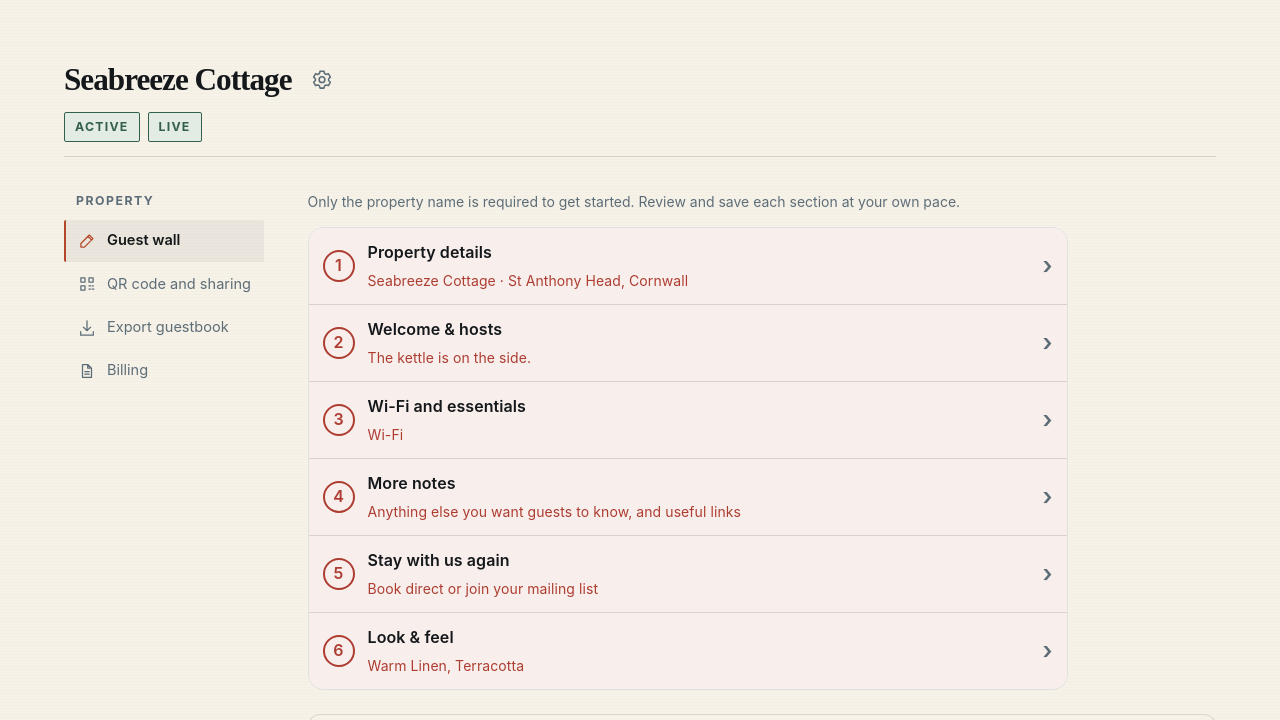
Test: switching the phone editor between Edit and Preview › opens Manage on the checklist and returns there after section editing or guest preview
The image size is (1280, 720).
Check: the button "Welcome photo" is not shown
Check: the button "5 Stay with us again Book direct or join your mailing list ›" is shown, box [308,535,1066,612]
Click the button "2 Welcome & hosts The kettle is on the side. ›": (339, 343) [308,304,1066,381]
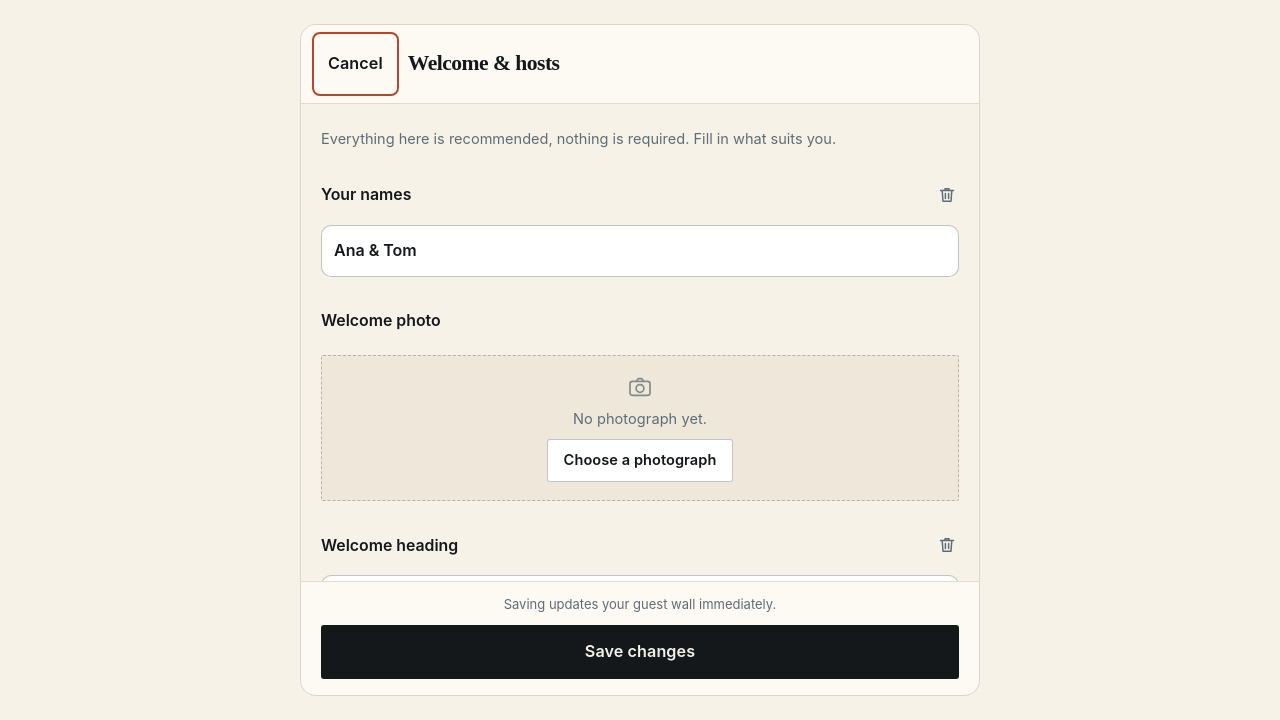
Check: the dialog "Welcome & hosts" is shown, box [300,24,980,696]
Check: the file field labelled "Welcome photo" is shown, box [321,311,441,330]
Click the button "Cancel": (355, 64) [317,37,394,91]
(page scrolled)
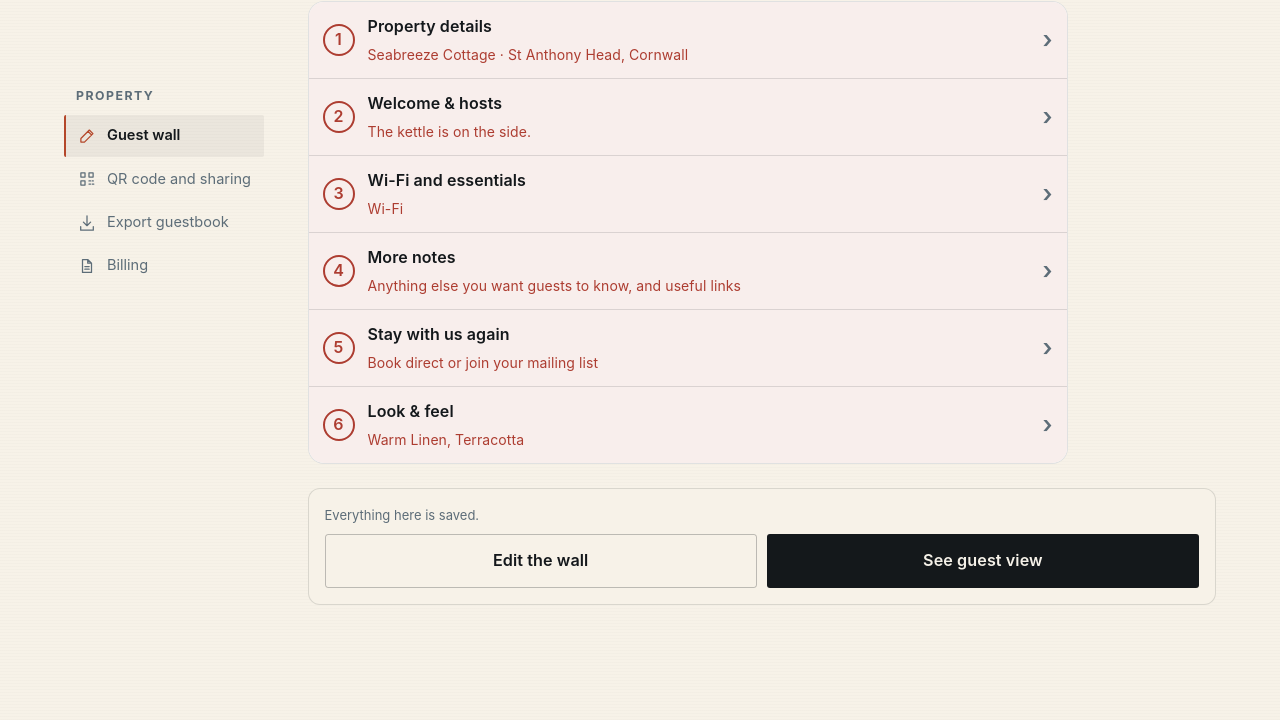
Click the button "See guest view": (983, 561) [767,534,1199,588]
(page scrolled)
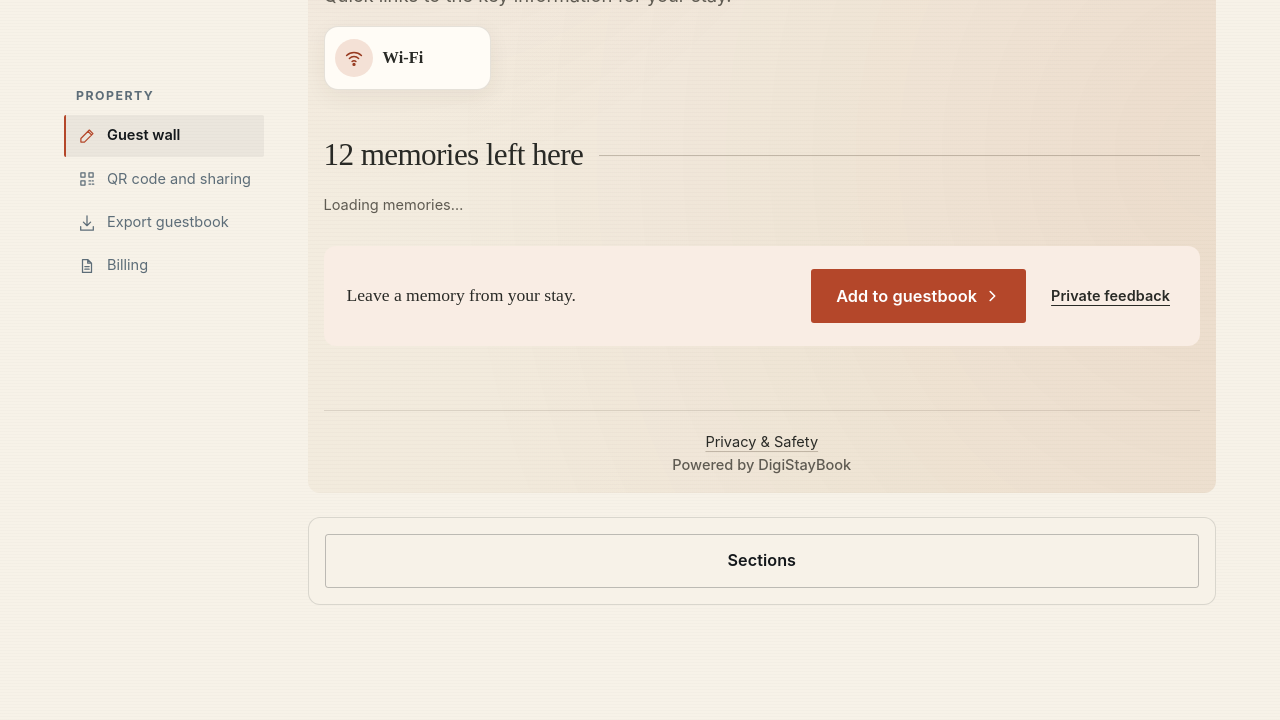
Click the button "Sections": (762, 561) [324,534,1199,588]
(page scrolled)
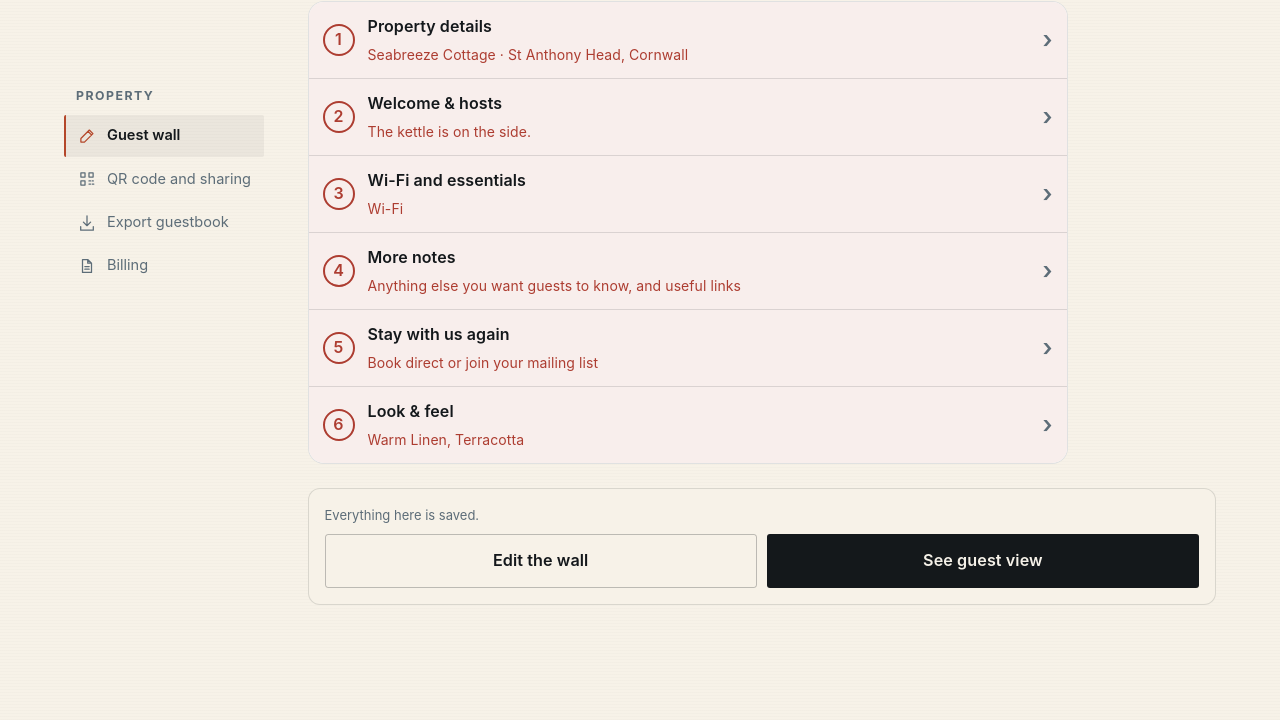
Check: the navigation bar named "Guest wall sections" is shown, box [308,1,1068,464]
